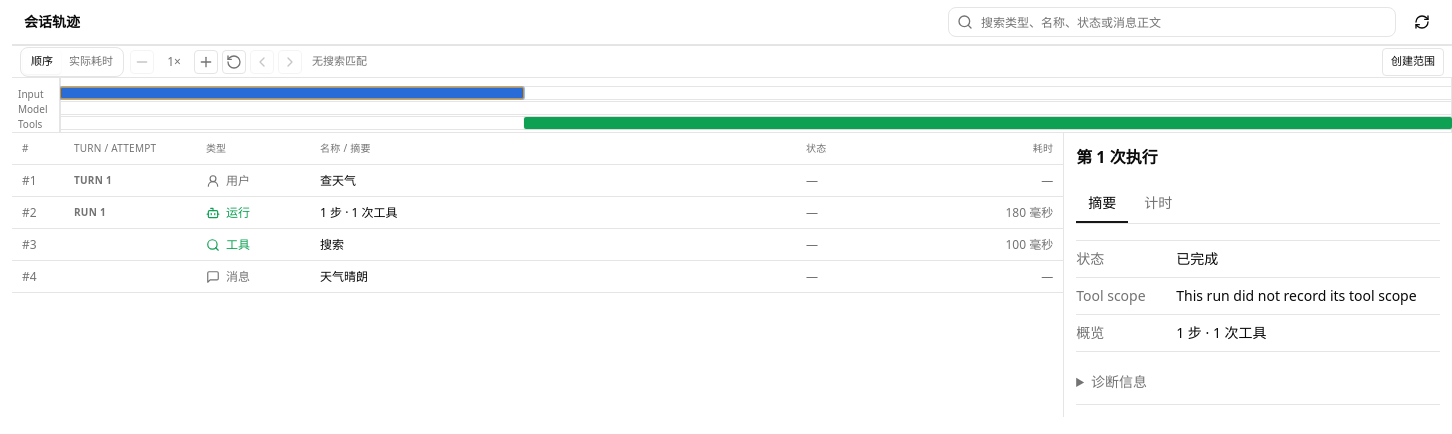
Test: TrajectoryTabView › 点击 Turn 级用户节点只更新详情，不卸载当前 Run 快照
Click the option "#1 Turn 1 用户 查天气 — —" at (93, 180), box [12, 165, 1063, 197]
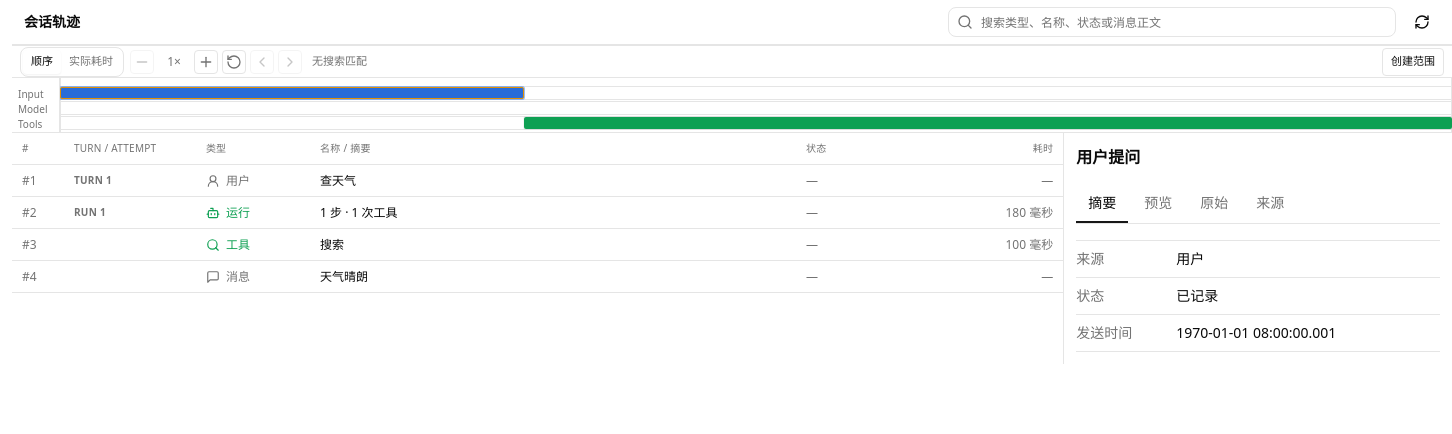
Check: the option with aria-label "工具，搜索" is shown, box [12, 229, 1063, 261]
Check: the heading "用户提问" is shown, box [1076, 146, 1140, 168]
